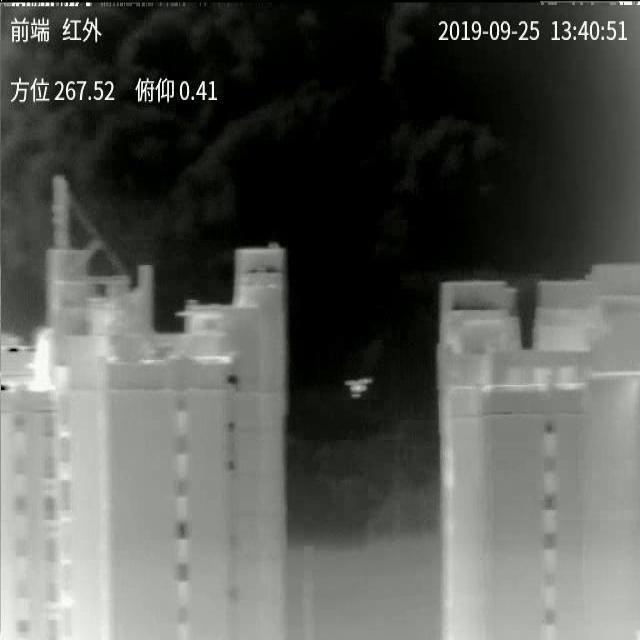drone: (345, 378, 372, 398)
